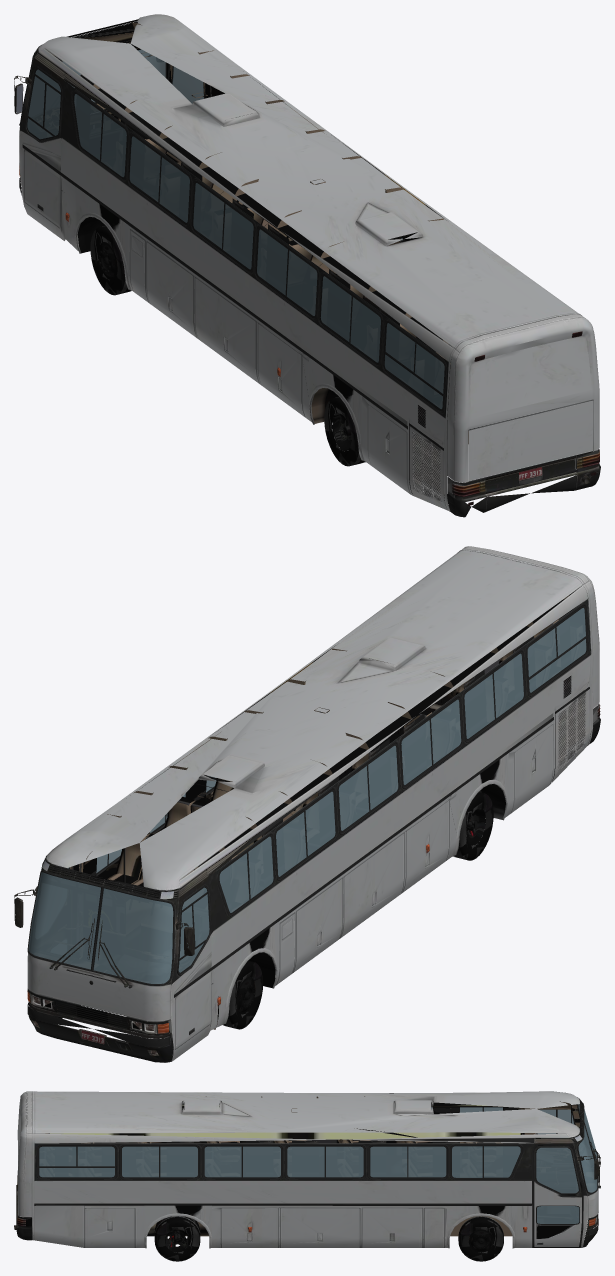
Rendered from bus-npc.glb.
3 views of the same model, one above another, from view 1: azimuth 30°, elevation 25°; view 2: azimuth 150°, elevation 25°; view 3: azimuth 270°, elevation 25° (orthographic). The views are drawn at different scales.
Parts seen in each view (by area): view 1: paint-atlas, glass, atlas-e6b5309a; view 2: paint-atlas, glass, atlas-e6b5309a; view 3: paint-atlas, glass, atlas-e6b5309a.
Part boxes in pixels (x1,y1,x2,y2): paint-atlas: (14, 14, 600, 517); glass: (27, 49, 444, 409); atlas-e6b5309a: (48, 19, 559, 500); paint-atlas: (14, 546, 600, 1062); glass: (28, 608, 586, 983); atlas-e6b5309a: (29, 586, 585, 1029); paint-atlas: (14, 1091, 600, 1248); glass: (39, 1104, 597, 1223); atlas-e6b5309a: (45, 1093, 580, 1261).
Size of the model in its own units: 2.59 by 3.1 by 12.2.
3 materials, 2 textured.
